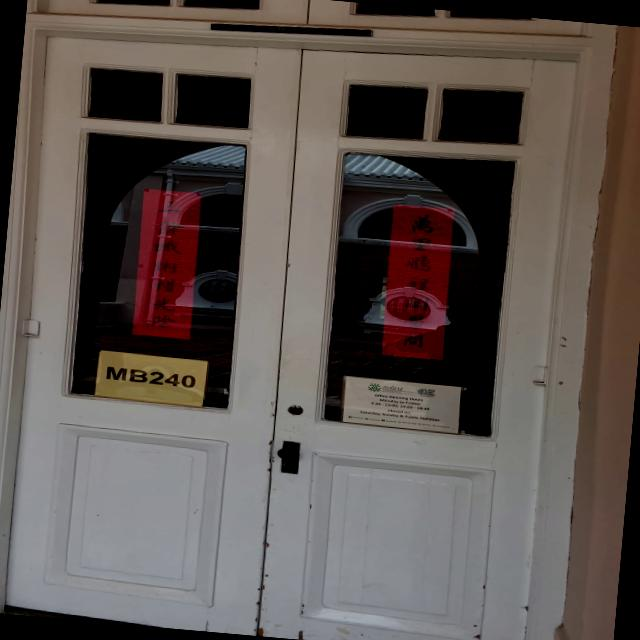room240: (98, 352, 206, 404)
